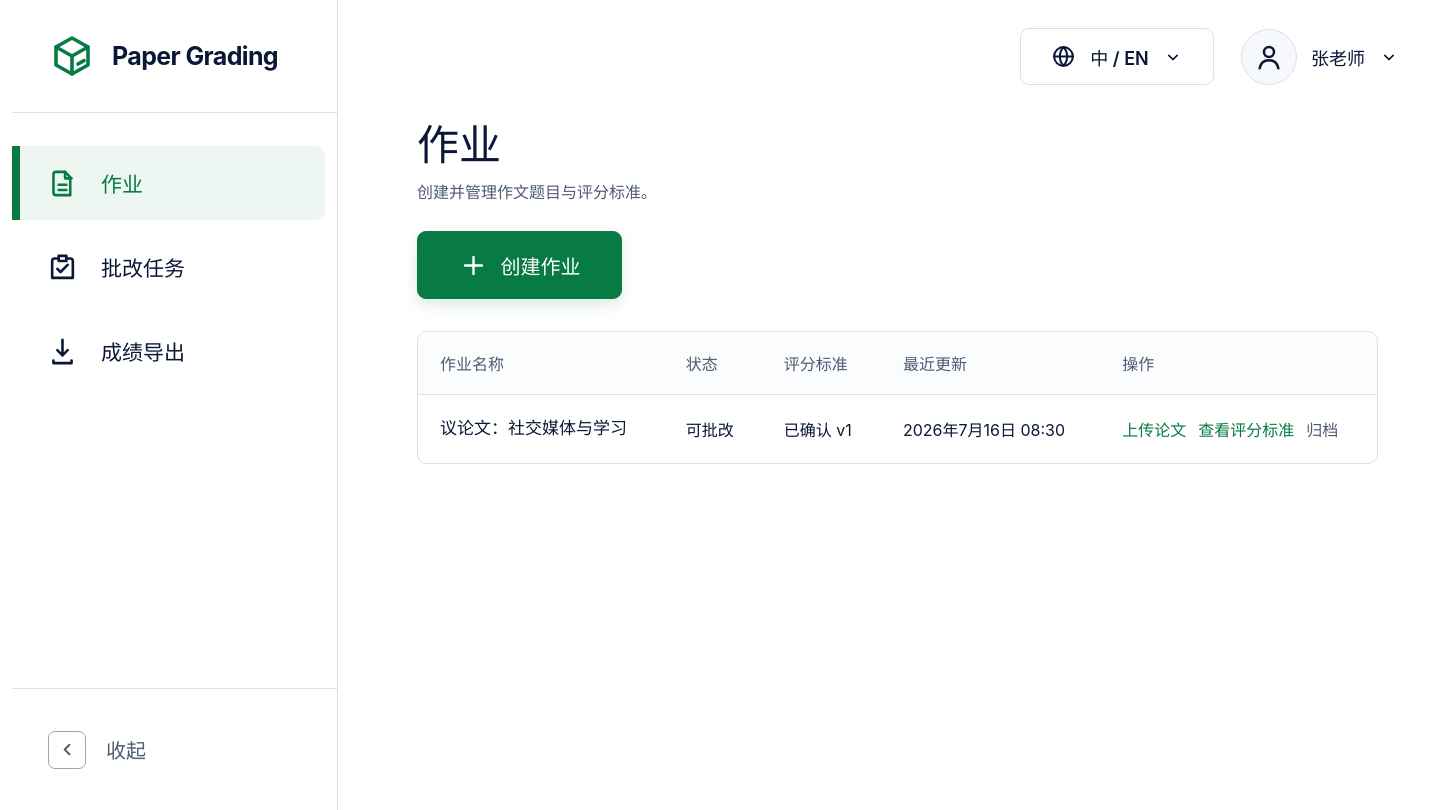
it: 阶段六作业流程 › 教师可以归档并恢复作业
Expected: the text "议论文：社交媒体与学习" is shown, top-left (440, 414), bottom-right (642, 439)
What coordinates should you click on to do the following:
click the button with aria-label "归档 议论文：社交媒体与学习"
I would click on:
 (1322, 429)
Its box is top-left (1306, 417), bottom-right (1338, 441).
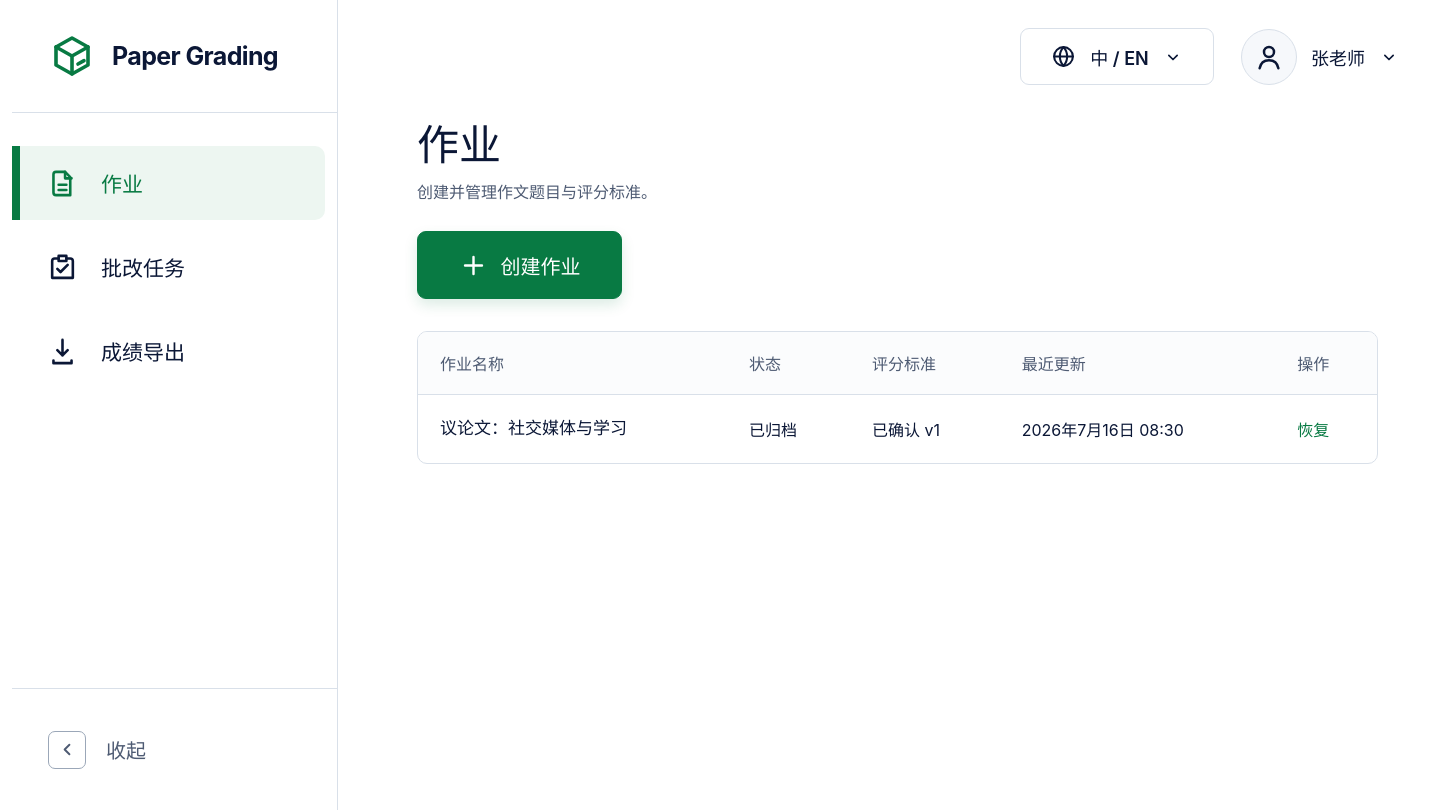
Expected: the text "已归档" is shown, top-left (727, 395), bottom-right (850, 463)
What coordinates should you click on to do the following:
click the button with aria-label "恢复 议论文：社交媒体与学习"
I would click on:
 (1313, 429)
Its box is top-left (1297, 417), bottom-right (1329, 441).
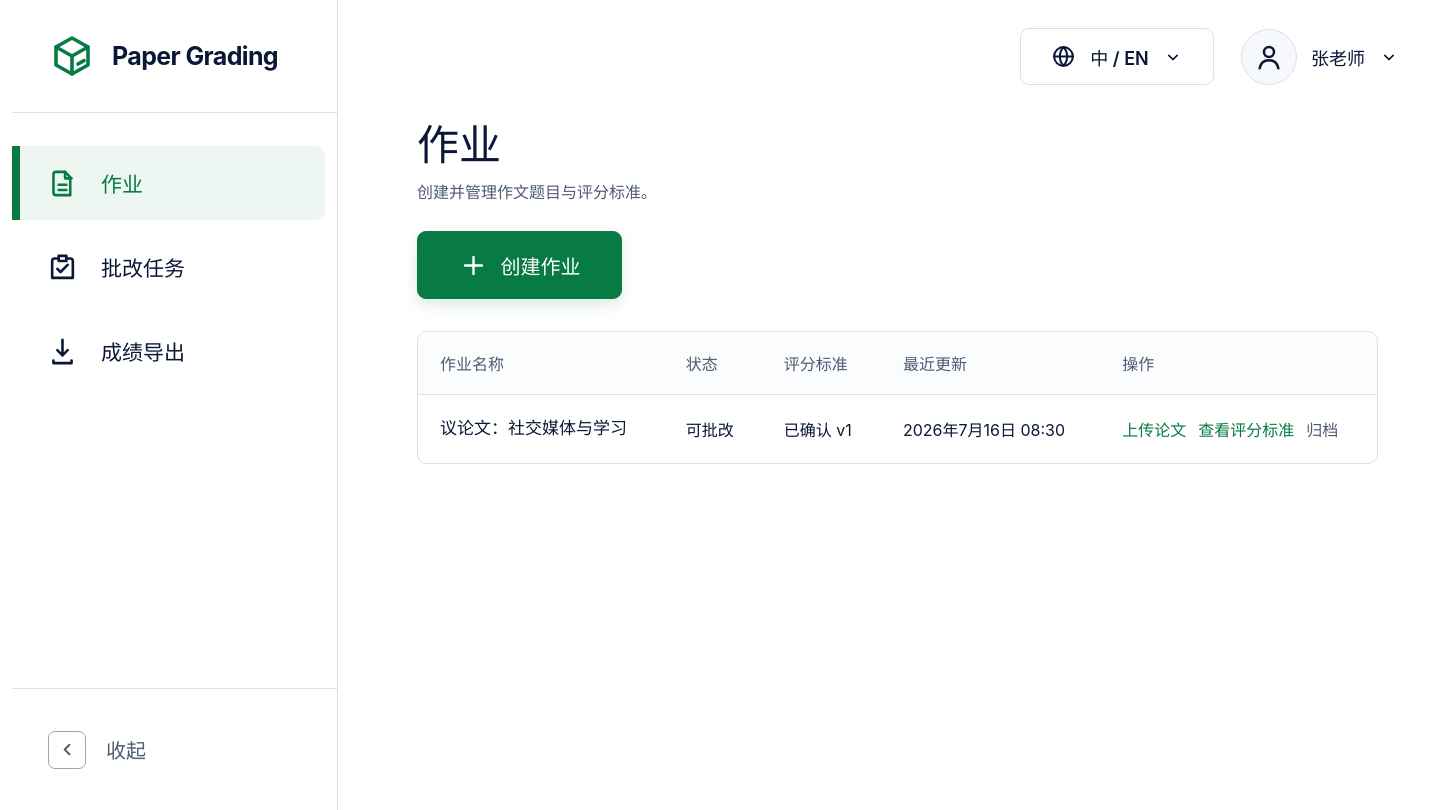
Expected: the text "可批改" is shown, top-left (664, 395), bottom-right (762, 463)
Expected: the link "上传论文" is shown, top-left (1122, 417), bottom-right (1186, 441)
